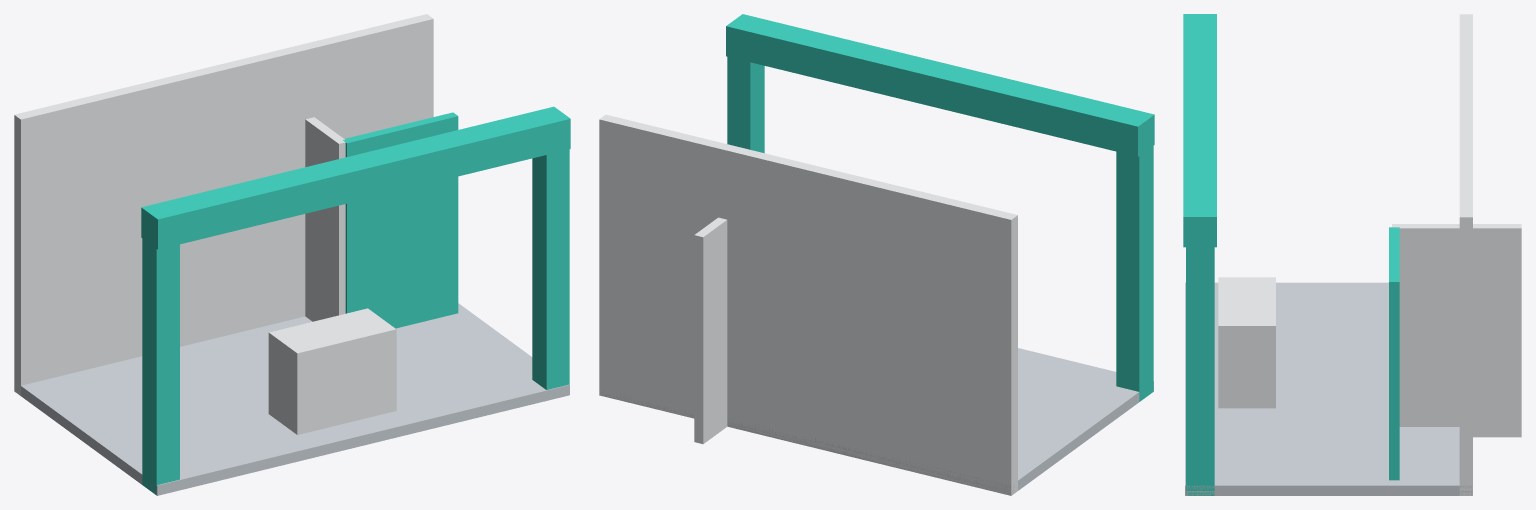
3 views of the same model, side by side, from view 1: azimuth 30°, elevation 25°; view 2: azimuth 150°, elevation 25°; view 3: azimuth 270°, elevation 25° (orthographic).
Visible parts, largest first — view 1: Exhibition Booth Concept; view 2: Exhibition Booth Concept; view 3: Exhibition Booth Concept.
Part boxes in pixels (<box>): Exhibition Booth Concept: <box>14,14,570,495</box>; Exhibition Booth Concept: <box>599,14,1154,495</box>; Exhibition Booth Concept: <box>1183,14,1521,495</box>.
Bounding box in the file's own units: 5 × 3.2 × 3.52.
